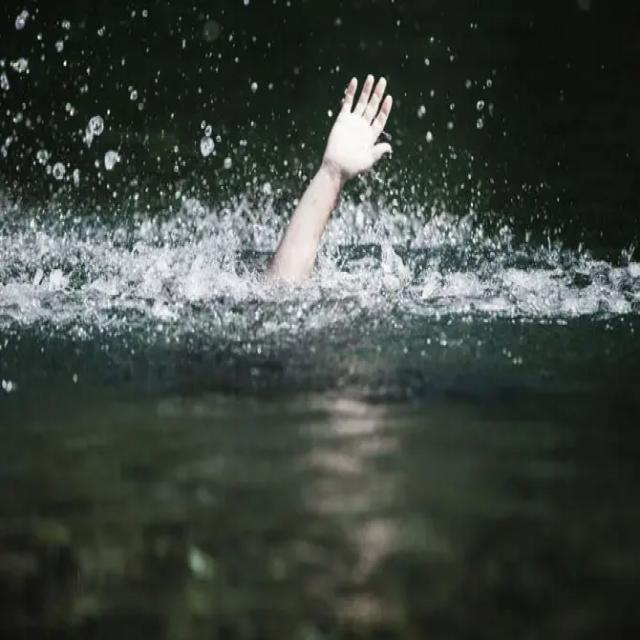swimming: (229, 46, 441, 376)
